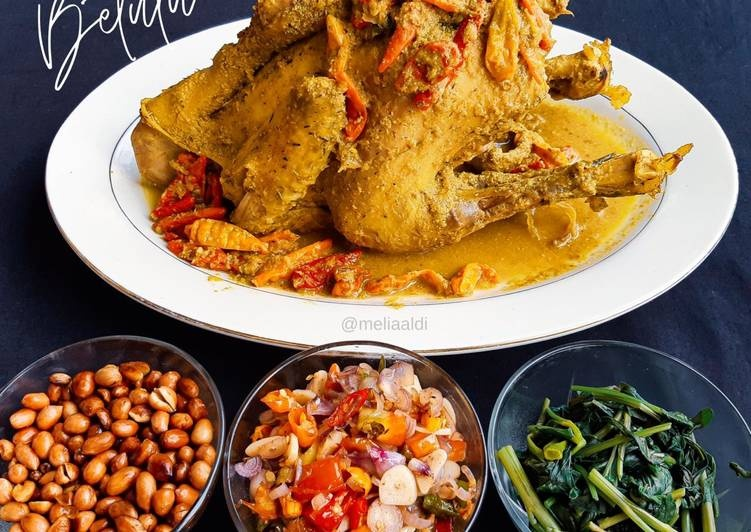ayam_betutu: (133, 3, 692, 300)
